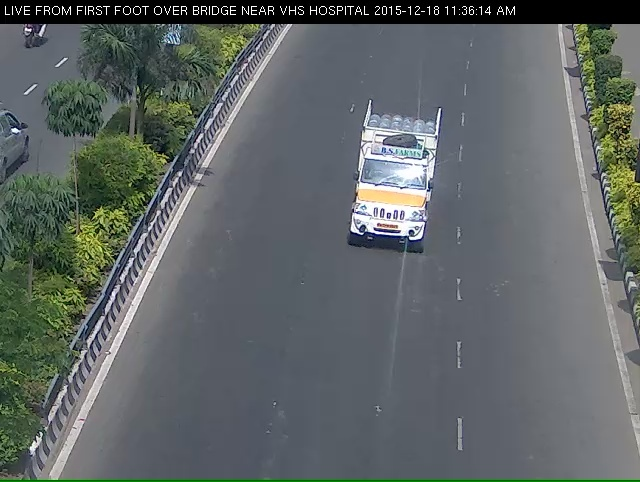Auto: (353, 100, 452, 292)
